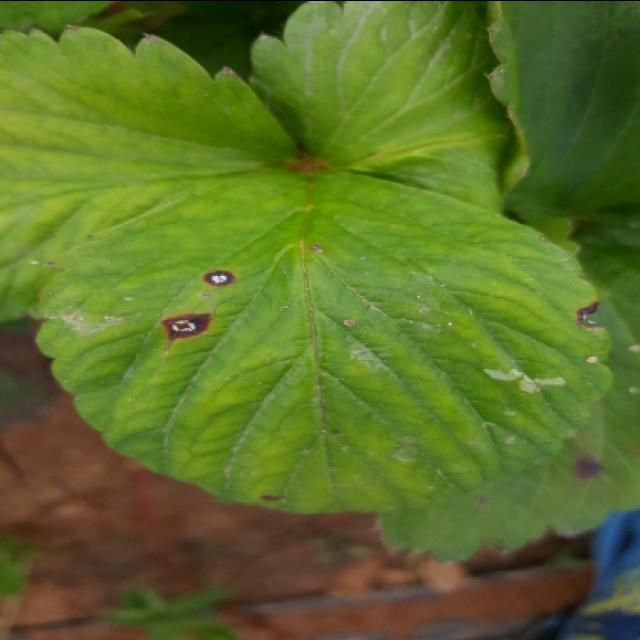Leaf Spot: (28, 166, 614, 515), (375, 209, 638, 563)
